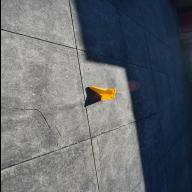cone: (89, 86, 115, 100)
